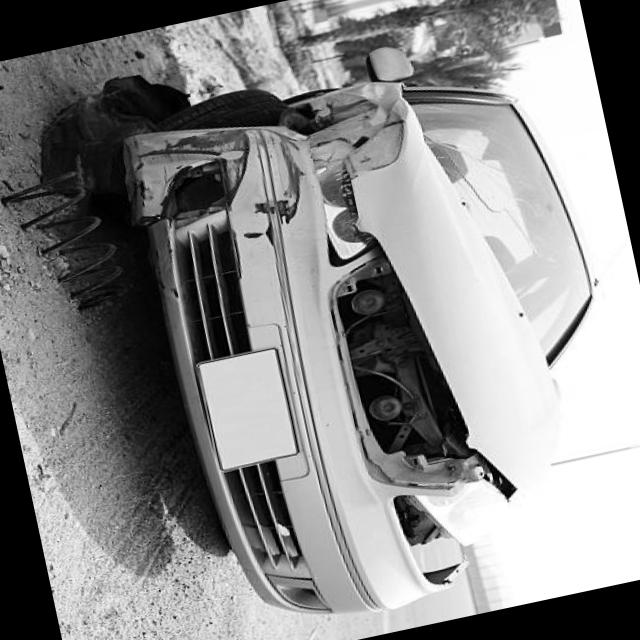Crack: (332, 247, 481, 524), (427, 105, 554, 290)
Dent: (309, 82, 410, 175)
Scratch: (124, 126, 312, 234)
Shatter: (2, 83, 284, 308), (393, 453, 507, 586), (310, 138, 385, 274)
